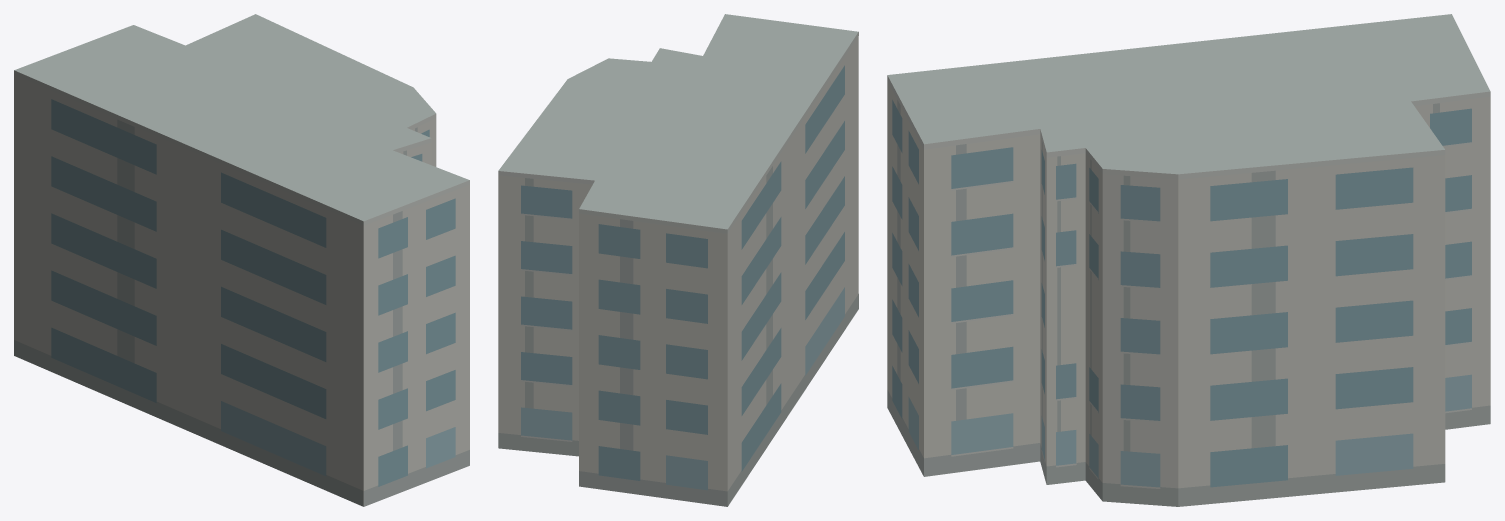
File: residential-13049977-f20c-4023-9005-cfcc90d22b57.glb
3 views of the same model, side by side, from view 1: azimuth 30°, elevation 25°; view 2: azimuth 150°, elevation 25°; view 3: azimuth 270°, elevation 25° (orthographic). The views are drawn at different scales.
Visible parts, largest first — view 1: residential-13049977-f20c-4023-9005-cfcc90d22b57.tmp; view 2: residential-13049977-f20c-4023-9005-cfcc90d22b57.tmp; view 3: residential-13049977-f20c-4023-9005-cfcc90d22b57.tmp.
Boxes of the visible parts, box(x1,y1,x2,y2) form: residential-13049977-f20c-4023-9005-cfcc90d22b57.tmp: box(14, 14, 469, 506); residential-13049977-f20c-4023-9005-cfcc90d22b57.tmp: box(498, 14, 858, 506); residential-13049977-f20c-4023-9005-cfcc90d22b57.tmp: box(887, 14, 1490, 506).
Bounding box in the file's own units: 15.77 × 15.25 × 25.08.
